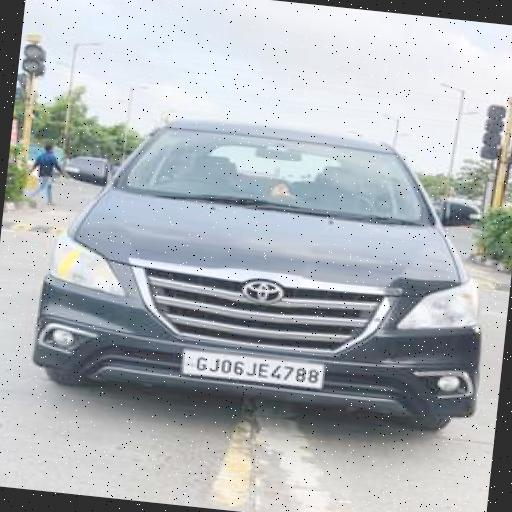license_plate`: (180, 345, 322, 388)
